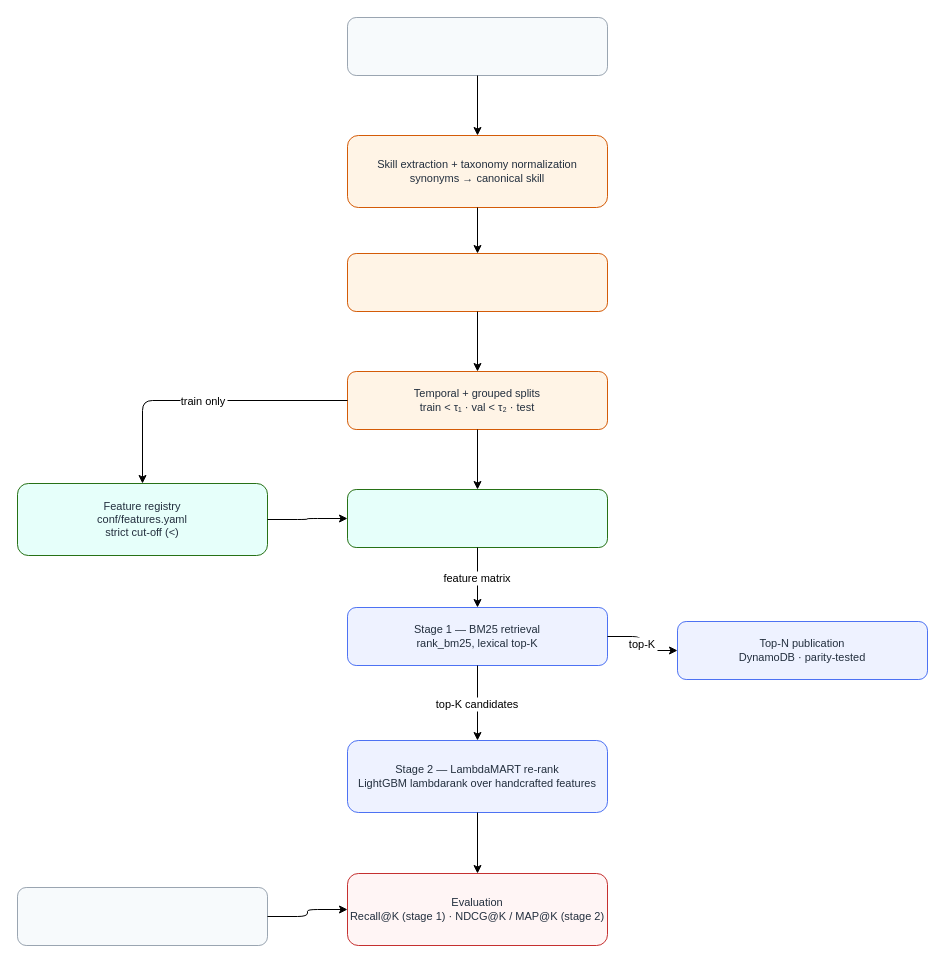
Image size: 945x963. Some labels were removed from this diagram. The box of each missing label's shape, as (x1, y1, x2, y2) in pixels:
Baselines Popularity (no retrieval) · lexical-only (no re-rank): (16, 886, 268, 946)
Point-in-time feature build fit on training only: (346, 488, 608, 548)
Proxy supervision self-positive + sampled negatives, grouped: (346, 252, 608, 312)
Raw job postings title · skills · seniority · location · time: (346, 16, 608, 76)
